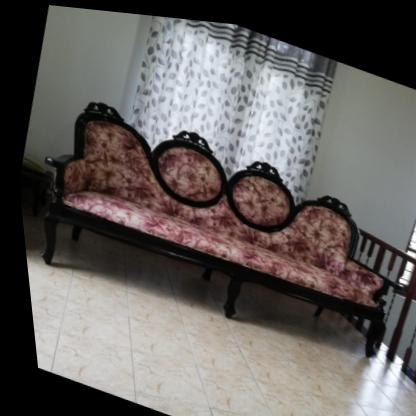Sofa: (9, 79, 416, 381)
